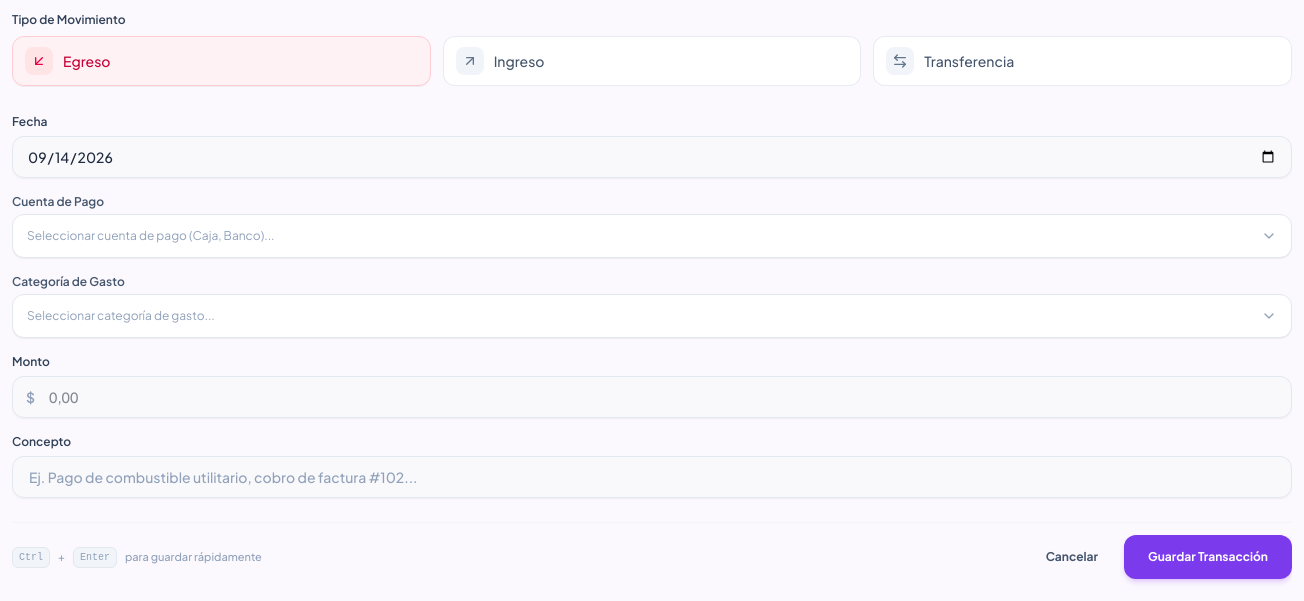
QuickTransactionForm Component (T007) › Operation Template Selector › switches template to Transferencia and updates labels to Cuenta Origen and Cuenta Destino
Click the button "Transferencia" at (969, 61), box left=873, top=36, right=1292, bottom=86
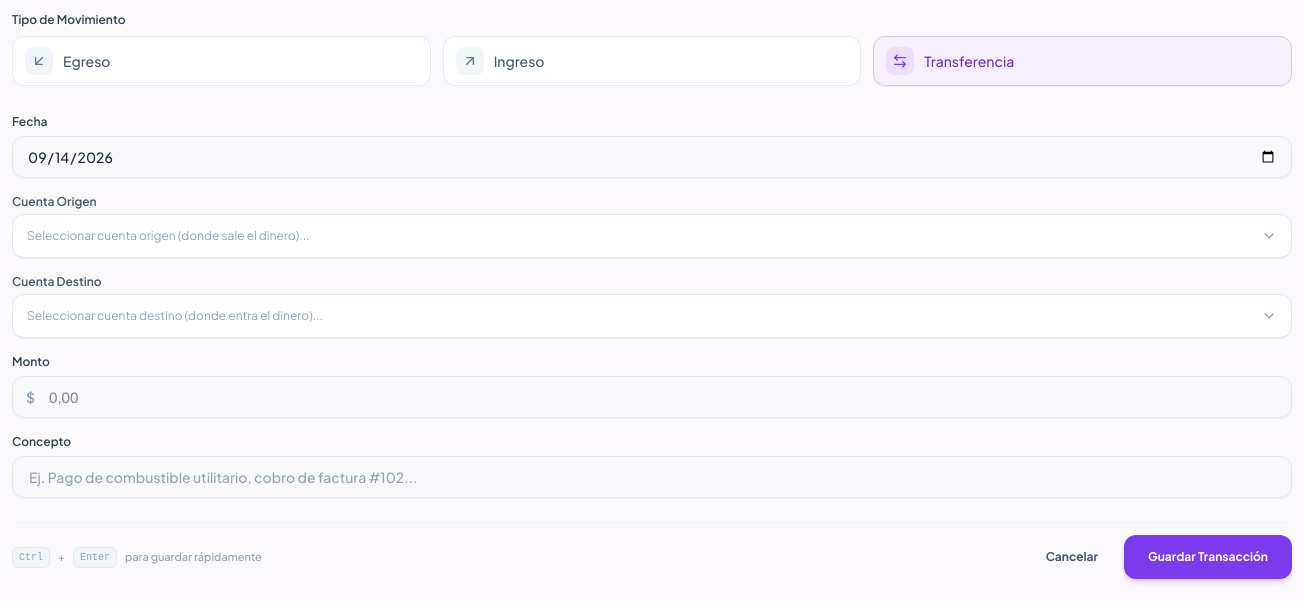
Expected: the text "Cuenta Origen" is shown, left=12, top=194, right=97, bottom=209
Expected: the text "Cuenta Destino" is shown, left=12, top=274, right=102, bottom=289
